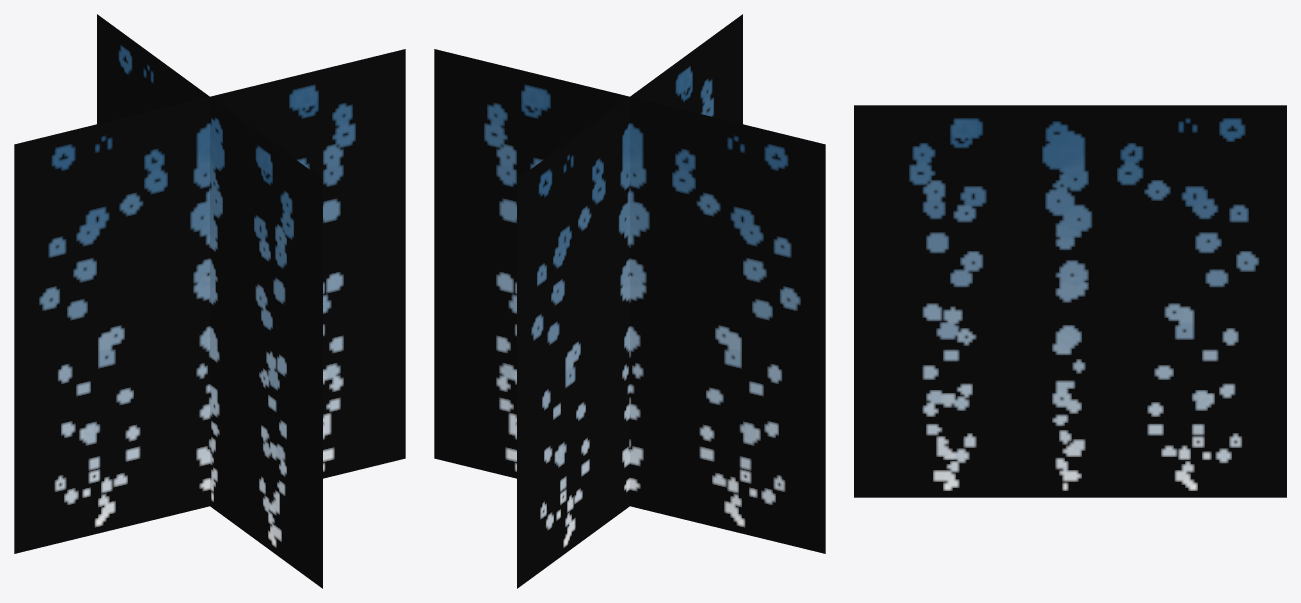
Rendered from para-bubbles.glb.
3 views of the same model, side by side, from view 1: azimuth 30°, elevation 25°; view 2: azimuth 150°, elevation 25°; view 3: azimuth 270°, elevation 25° (orthographic). The views are drawn at different scales.
Visible parts, largest first — view 1: frame_00; view 2: frame_00; view 3: frame_00.
Boxes of the visible parts, x1=… form: frame_00: x1=14, y1=14, x2=405, y2=588; frame_00: x1=434, y1=14, x2=825, y2=588; frame_00: x1=854, y1=105, x2=1286, y2=497.
Size of the model in its own units: 1 by 1 by 1.
1 material, 1 textured.
